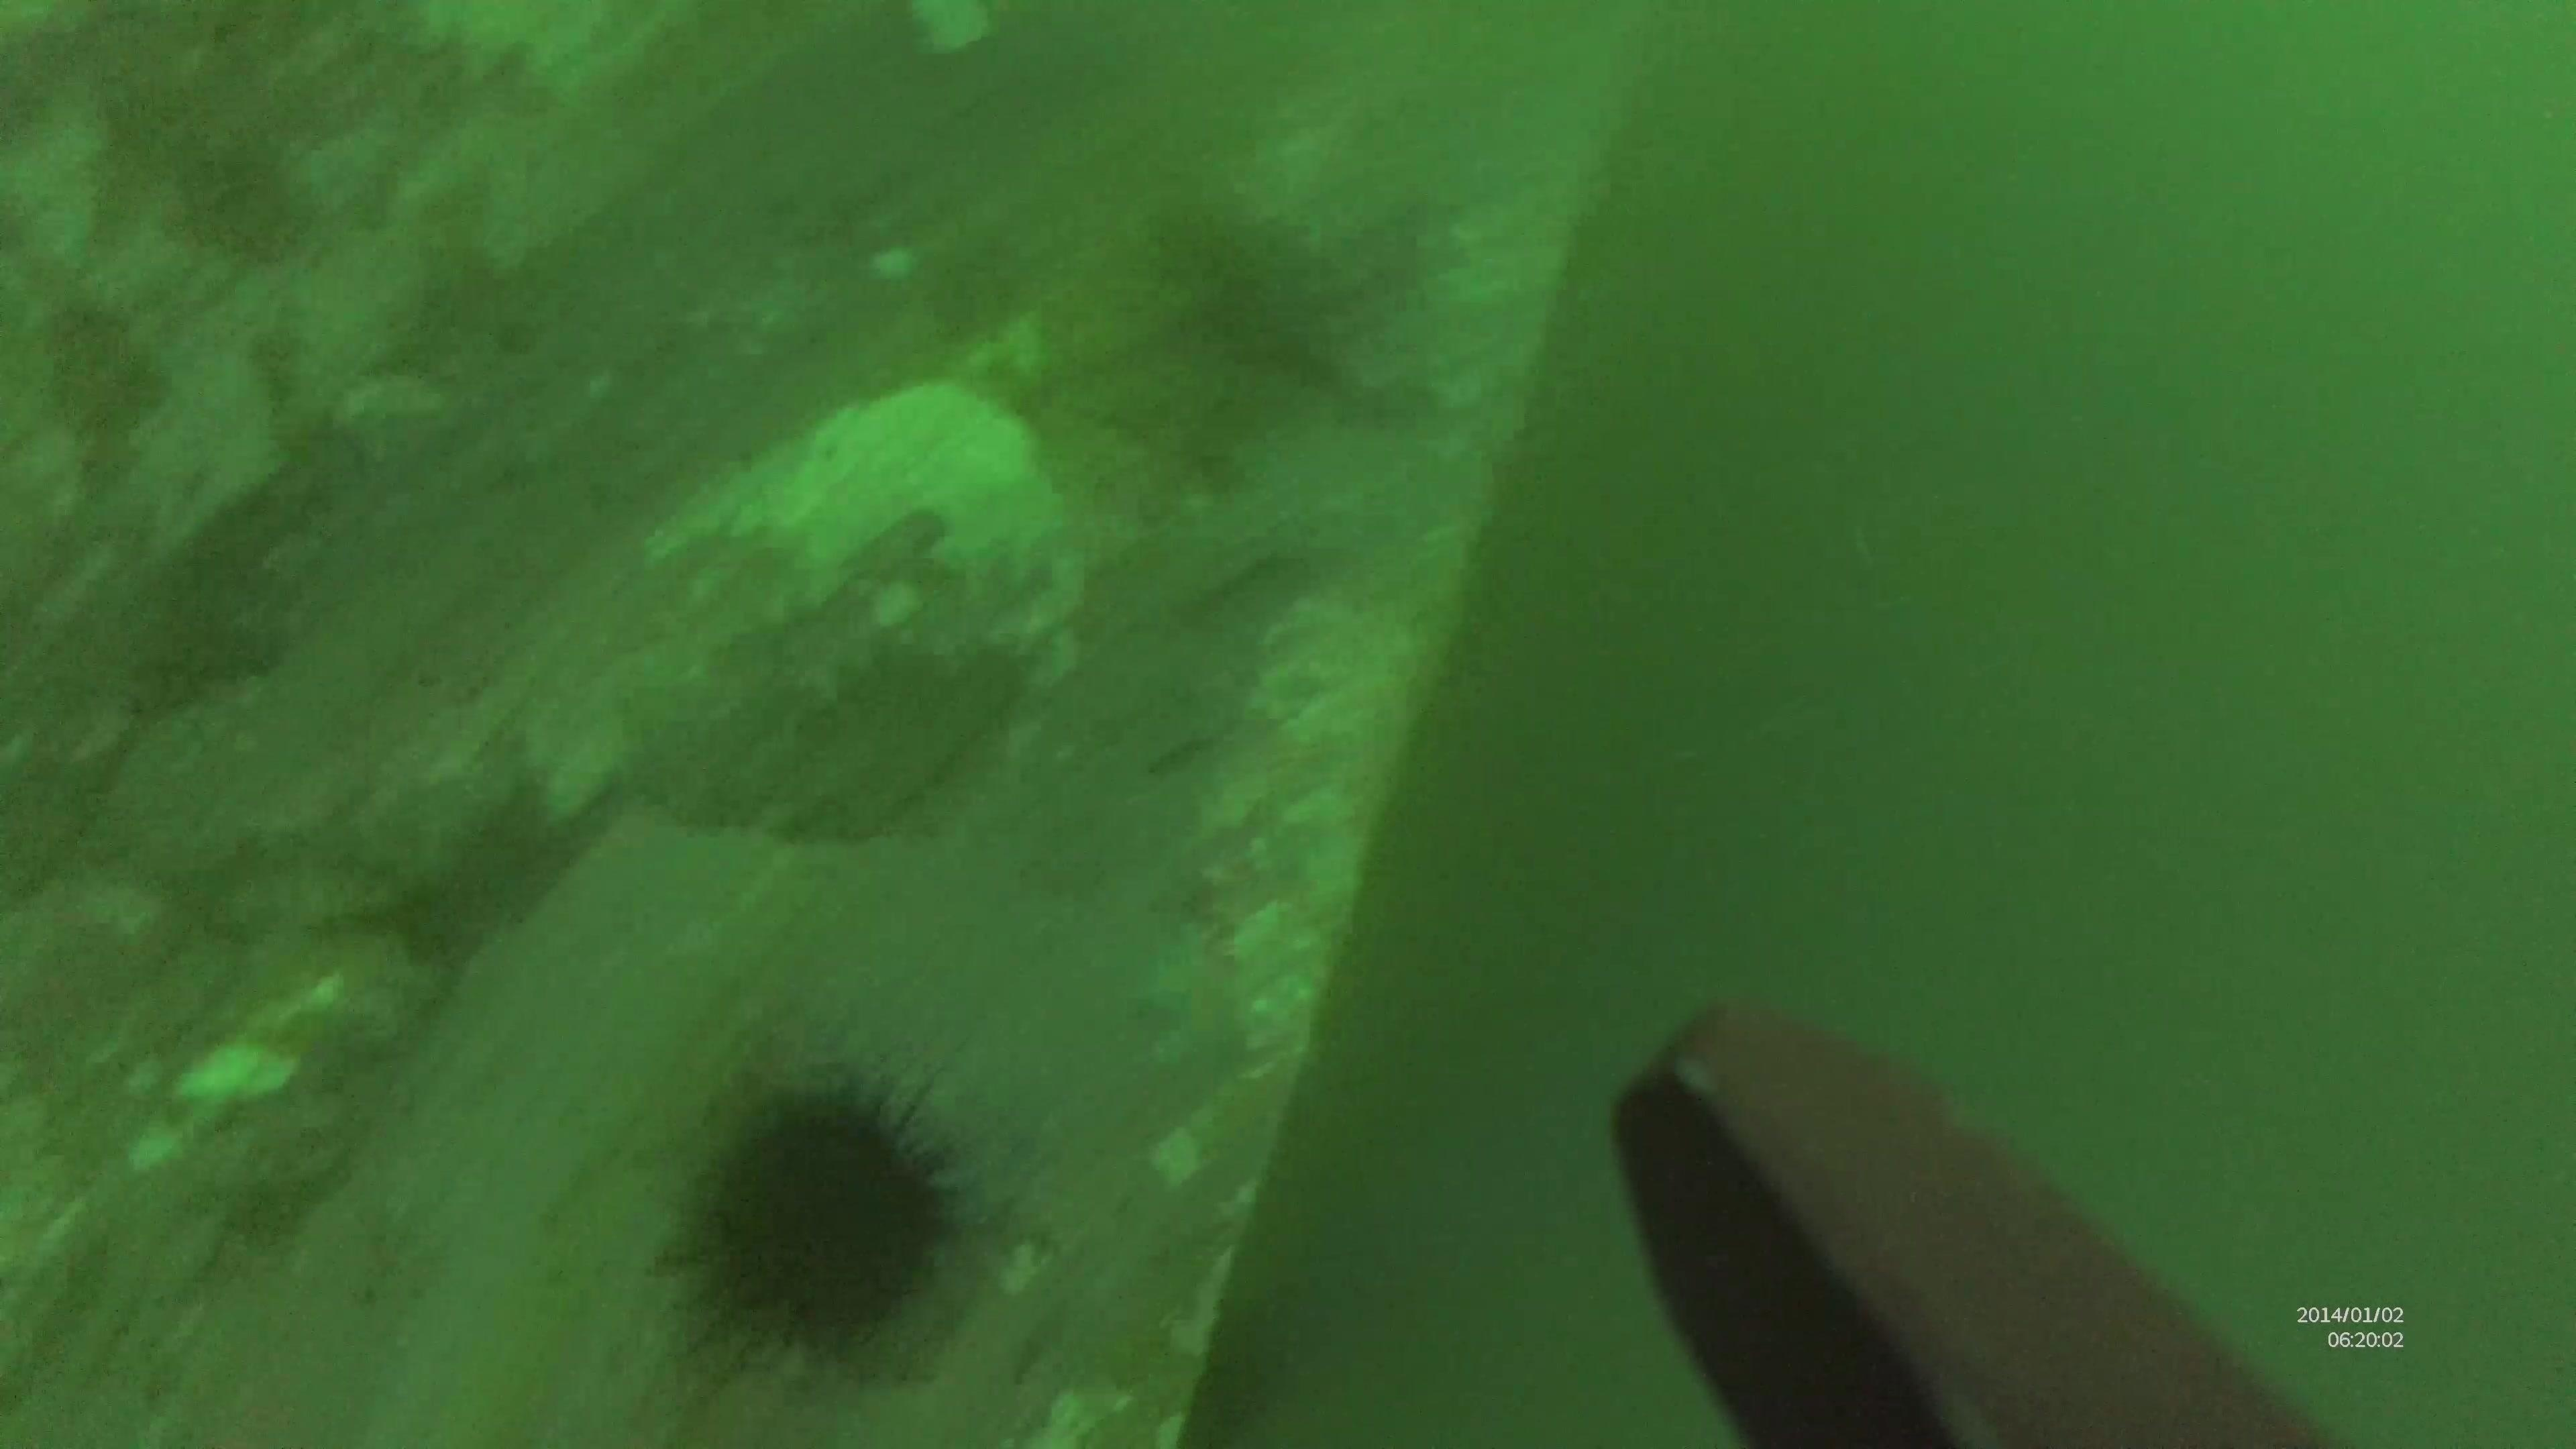echinus: (660, 1062, 980, 1371)
